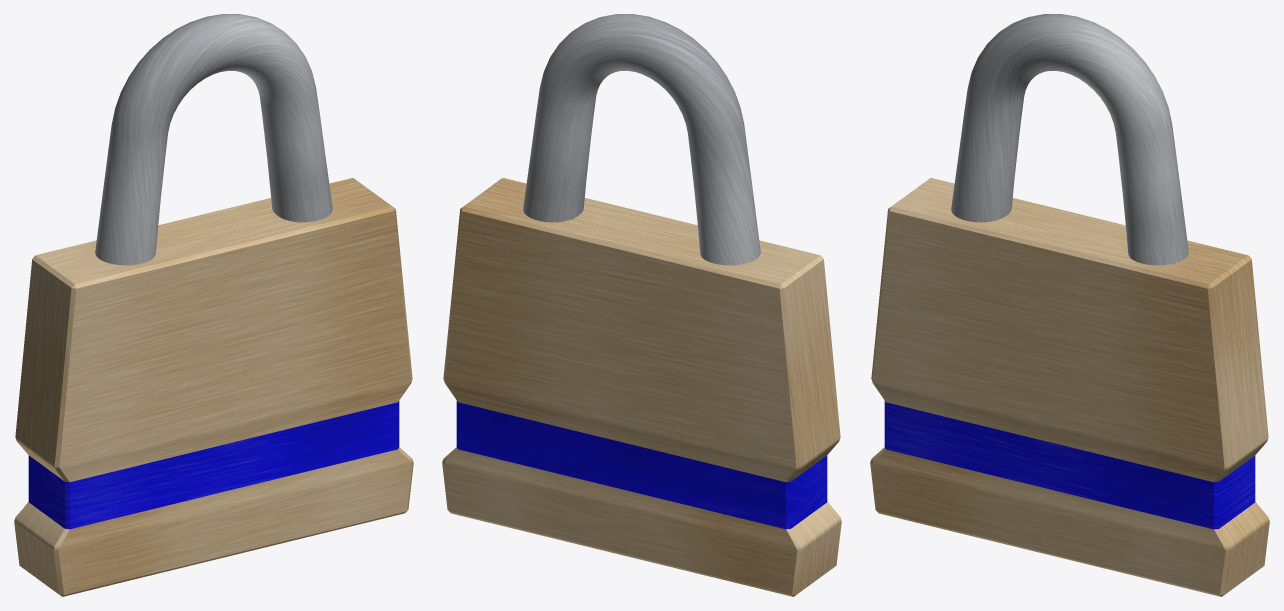
File: lock_1.fbx
The picture shows the model from 3 angles, left to right: view 1: azimuth 30°, elevation 25°; view 2: azimuth 150°, elevation 25°; view 3: azimuth 330°, elevation 25°; orthographic projection.
Visible parts, largest first — view 1: pCube1, pTorus1; view 2: pCube1, pTorus1; view 3: pCube1, pTorus1.
Boxes of the visible parts, box(x1,y1,x2,y2) form: pCube1: box(14, 178, 413, 596); pTorus1: box(95, 14, 332, 265); pCube1: box(442, 178, 841, 596); pTorus1: box(523, 14, 760, 265); pCube1: box(870, 178, 1269, 596); pTorus1: box(951, 14, 1188, 265).
Bounding box in the file's own units: 2.38 × 3.3 × 0.4948.
Materials: 2 (2 with a texture image).
